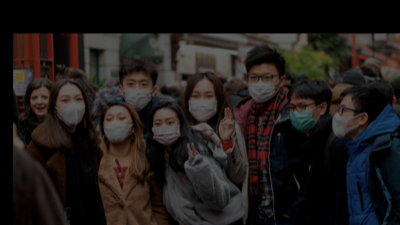with_mask: (248, 69, 280, 104), (123, 76, 154, 110), (289, 100, 319, 132), (188, 88, 217, 121), (330, 102, 356, 138), (151, 115, 182, 145), (56, 92, 84, 125), (104, 111, 133, 141)
without_mask: (30, 92, 52, 115)
